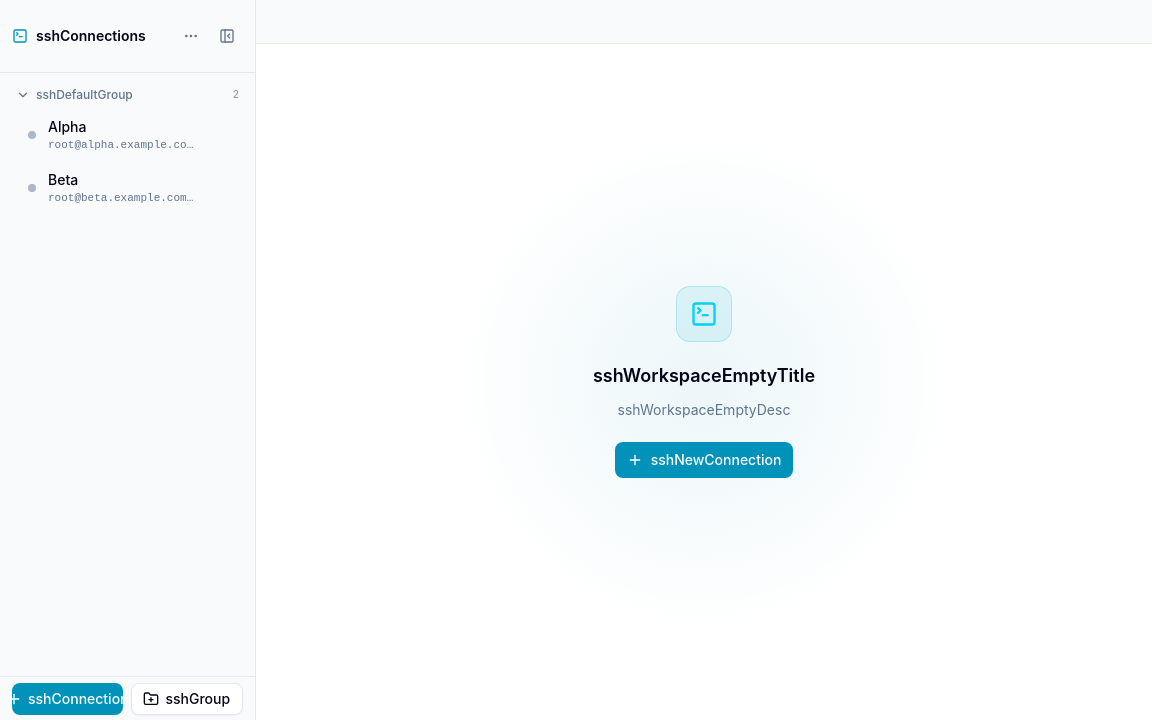
it: SSH workspace › keeps the SSH sidebar header compact and moves secondary tools into a menu
This screenshot has width=1152, height=720.
Check: the number of buttons "sshNewConnection" is 1, box [615, 442, 793, 478]
Check: the menu item "sshTerminalSettings" is not shown
Click the button named "sshMoreActions" at point(191, 36), box [175, 20, 207, 52]
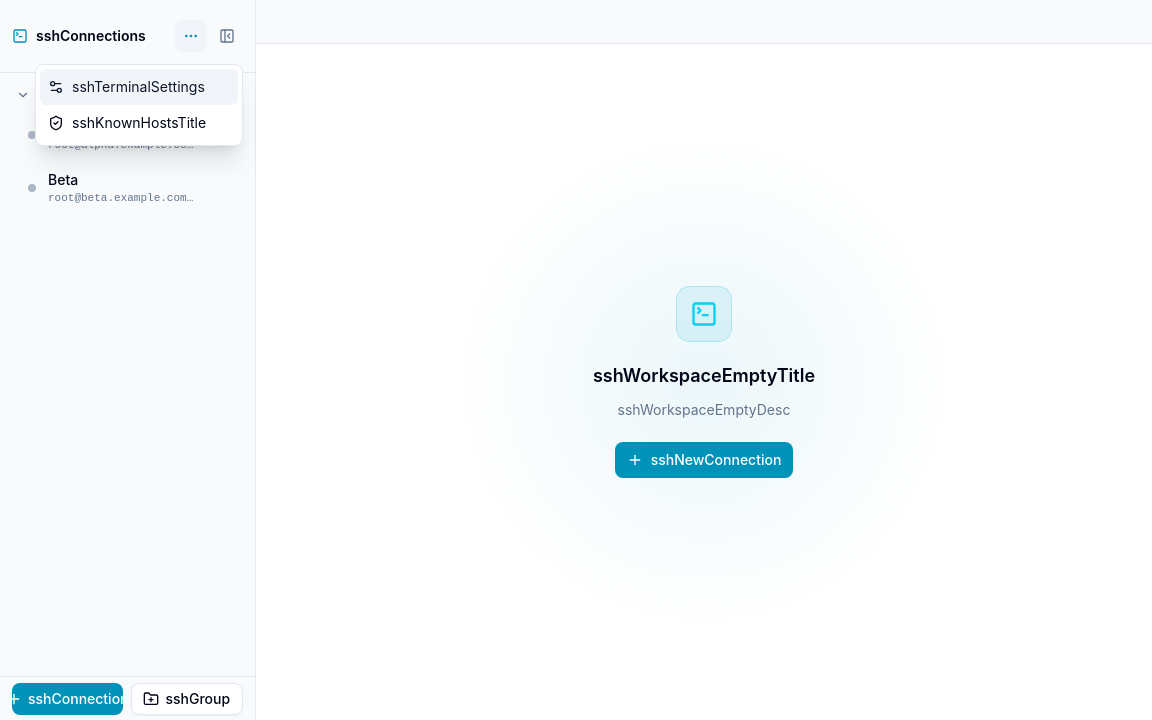
Check: the menu item "sshTerminalSettings" is shown, box [40, 69, 238, 105]
Check: the menu item "sshKnownHostsTitle" is shown, box [40, 105, 238, 141]
Press Arrowdown
Press Escape
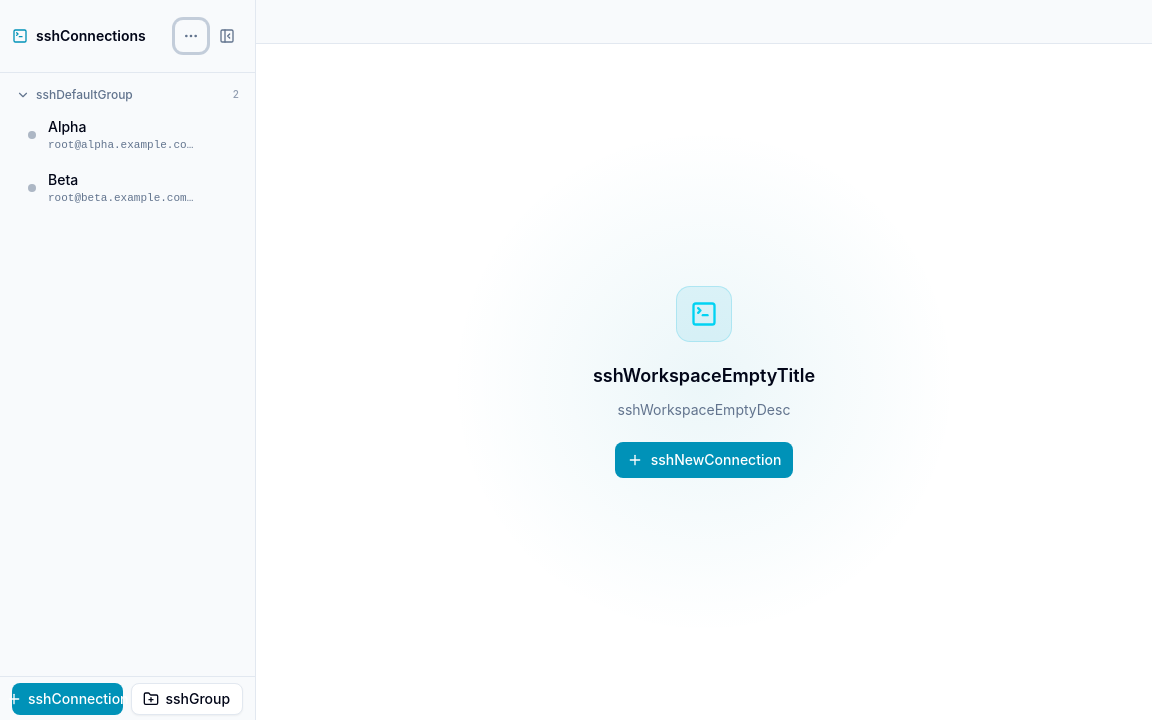
Check: the menu is gone
